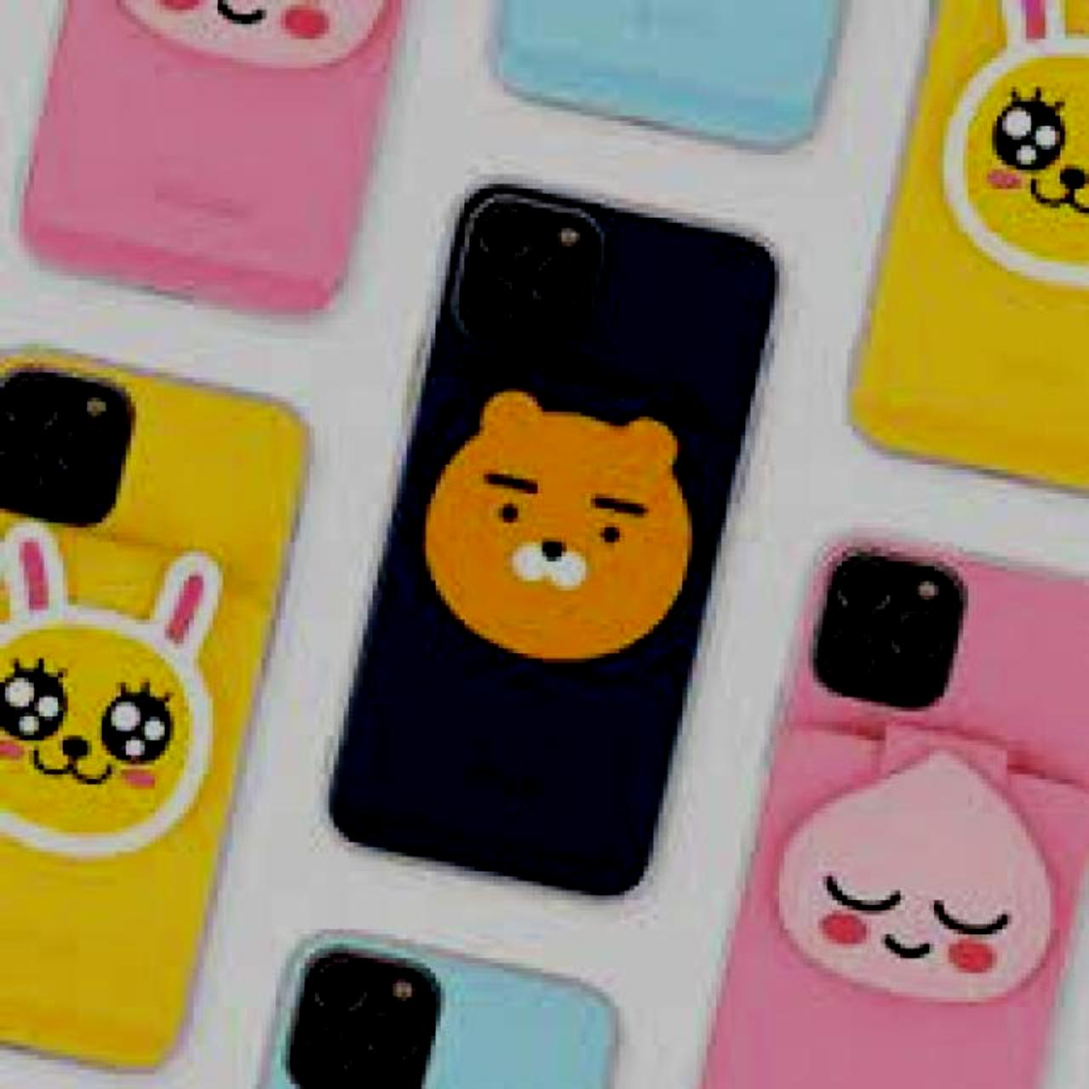phone: (322, 174, 781, 898), (0, 345, 312, 1072), (698, 535, 1089, 1089), (17, 0, 405, 316), (261, 936, 617, 1087)
